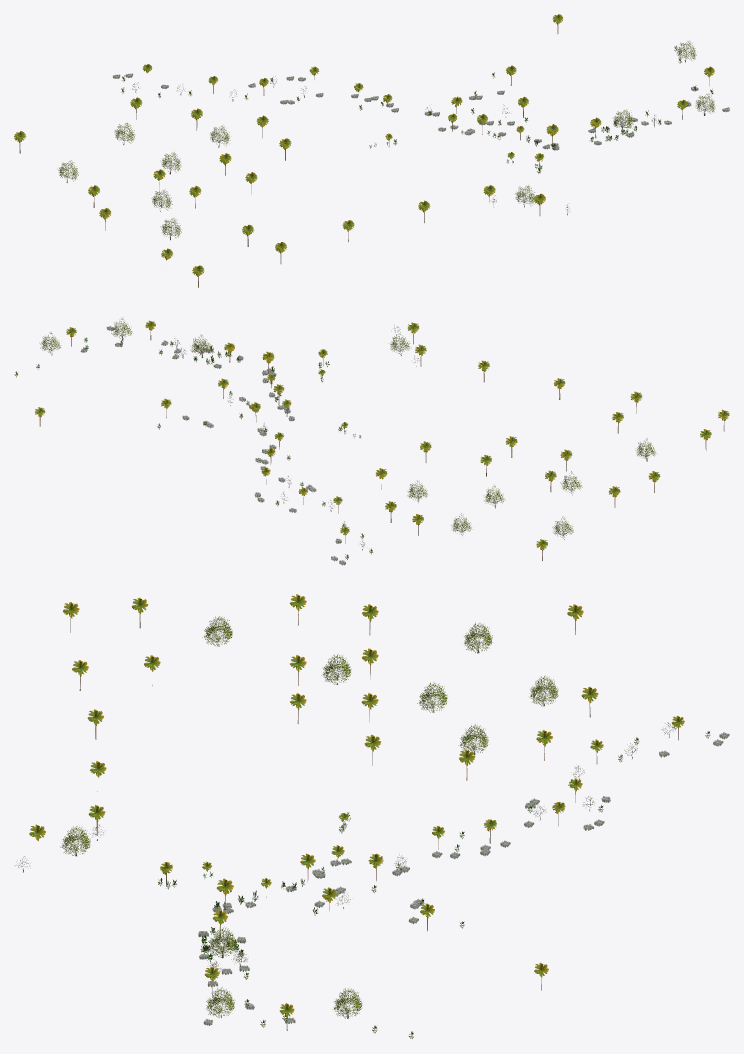
Rendered from env.glb.
3 views of the same model, one above another, from view 1: azimuth 30°, elevation 25°; view 2: azimuth 150°, elevation 25°; view 3: azimuth 270°, elevation 25° (orthographic). The views are drawn at different scales.
Visible parts, largest first — view 1: plants_location; view 2: plants_location; view 3: plants_location.
Boxes of the visible parts, box(x1,y1,x2,y2) form: plants_location: box(14, 14, 729, 287); plants_location: box(14, 318, 729, 565); plants_location: box(14, 594, 729, 1038).
Bounding box in the file's own units: 297 × 19.2 × 215.
8 materials, 8 textured.
